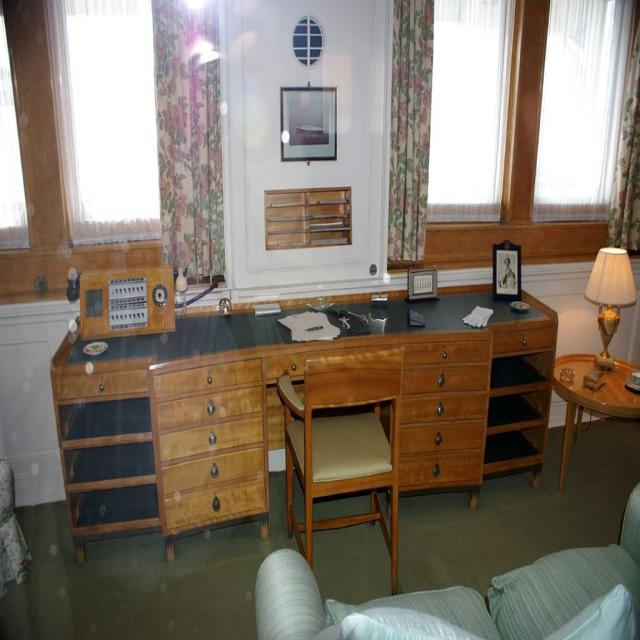chair: (277, 351, 403, 594)
desk: (95, 302, 567, 586)
